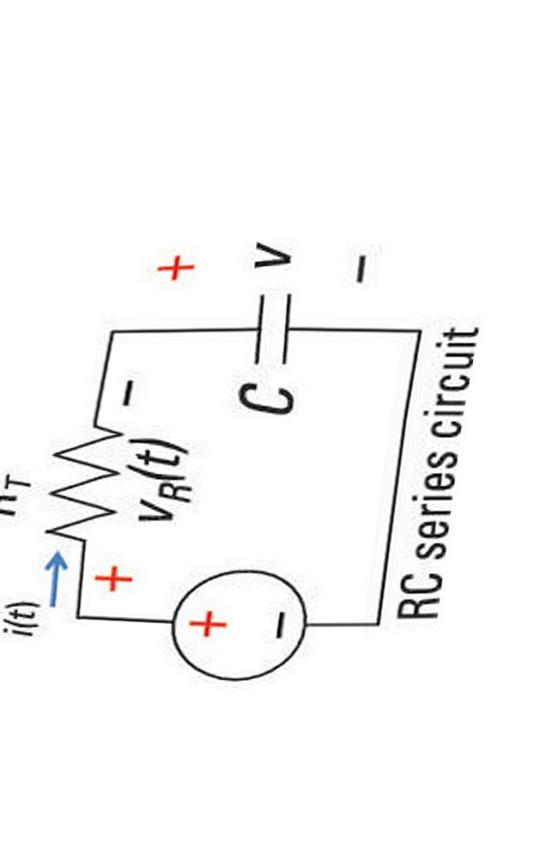Battery: (157, 540, 321, 699)
